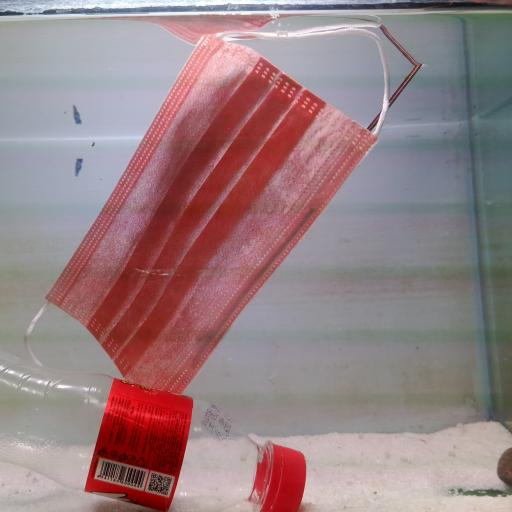bottle_cap: (259, 437, 316, 510)
mask: (16, 23, 392, 396)
plastic_bottle: (0, 356, 309, 512)
